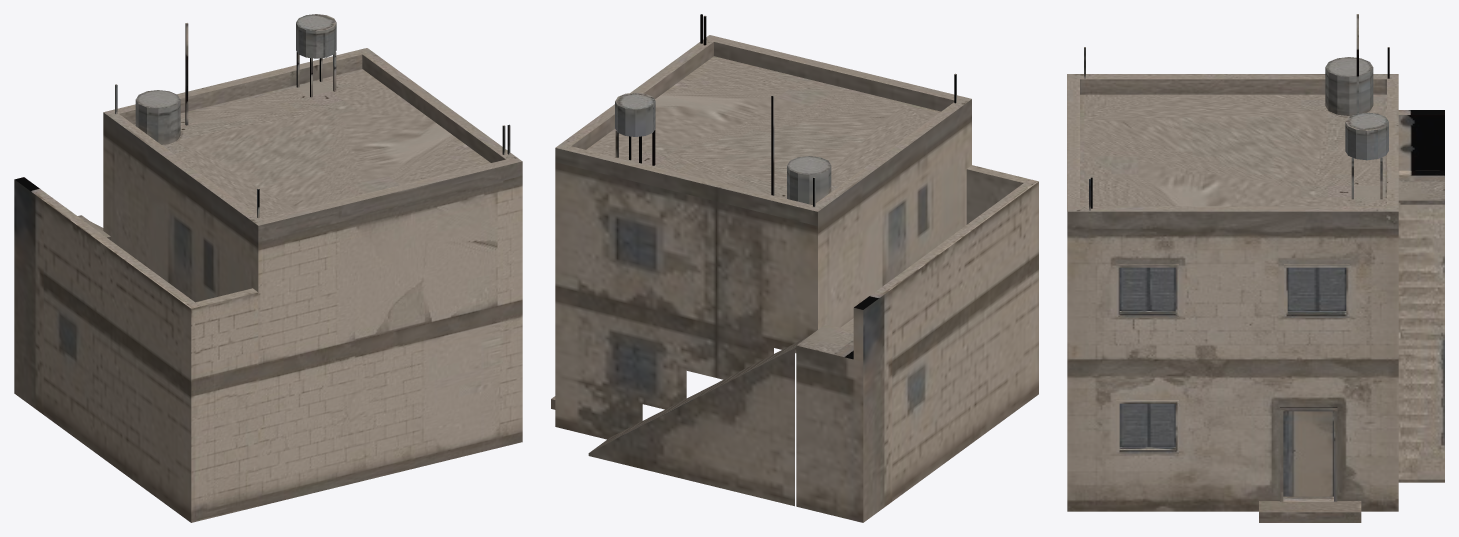
The model's file is house_lod1.glb.
The picture shows the model from 3 angles, left to right: view 1: azimuth 30°, elevation 25°; view 2: azimuth 150°, elevation 25°; view 3: azimuth 270°, elevation 25°; orthographic projection. The views are drawn at different scales.
Visible parts, largest first — view 1: wall, roof, metal; view 2: wall, roof, metal; view 3: wall, glass, roof, metal, trim.
Boxes of the visible parts, <box> form: wall: <box>14,54,522,522</box>; roof: <box>15,48,522,308</box>; metal: <box>115,14,510,218</box>; wall: <box>551,42,1038,522</box>; roof: <box>555,35,1038,309</box>; metal: <box>615,14,956,206</box>; wall: <box>1067,79,1444,522</box>; glass: <box>1119,267,1346,496</box>; roof: <box>1067,74,1444,211</box>; metal: <box>1084,14,1389,210</box>; trim: <box>1116,264,1349,501</box>.
Bounding box in the file's own units: 12.77 × 12.71 × 11.07.
Materials: 1 (1 with a texture image).
